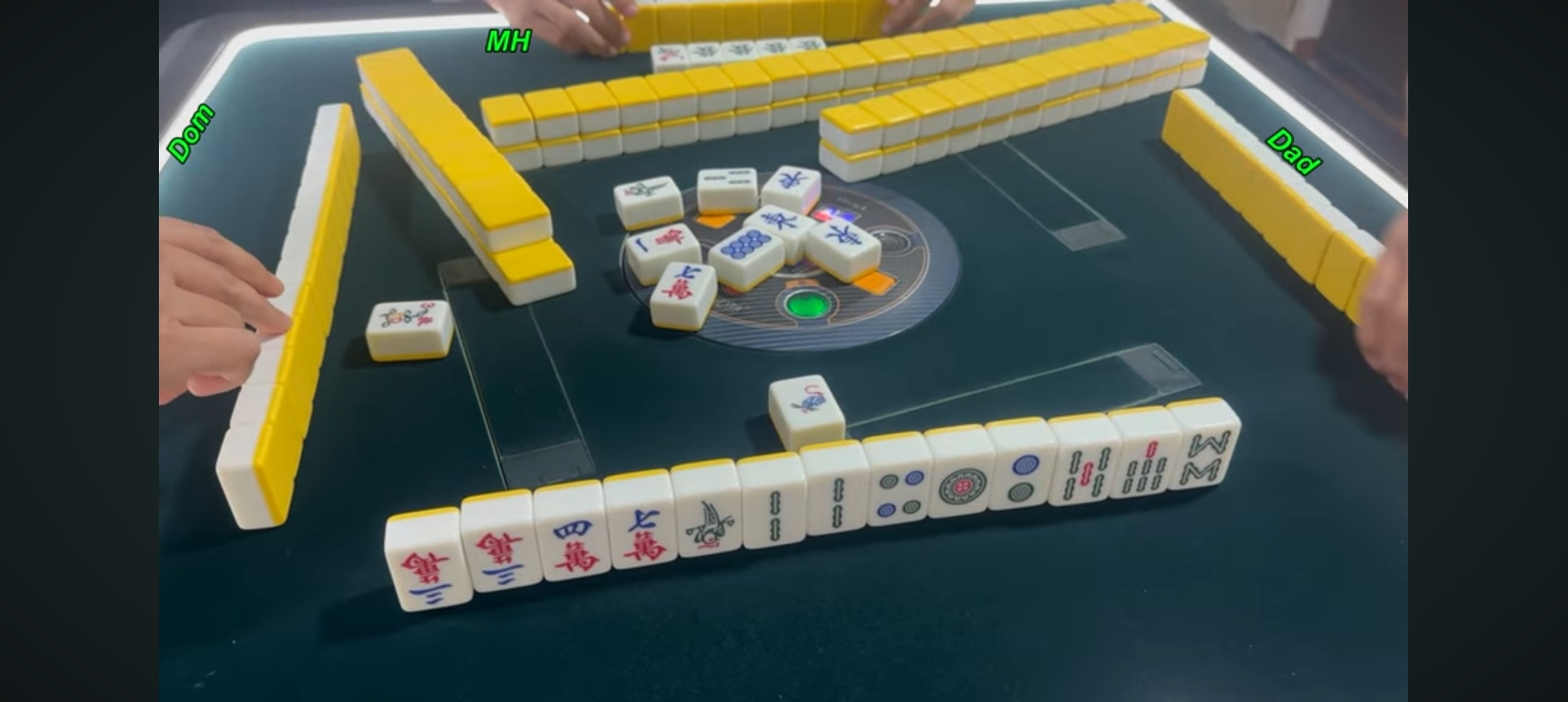TILE: (386, 544, 469, 609), (460, 527, 542, 588), (538, 517, 610, 580), (608, 506, 677, 568), (1117, 432, 1180, 496), (676, 493, 741, 555), (743, 488, 809, 547), (1056, 442, 1117, 504), (810, 471, 870, 533), (770, 375, 842, 426), (870, 463, 932, 522), (1176, 429, 1237, 488), (994, 450, 1055, 506), (935, 458, 993, 515)
